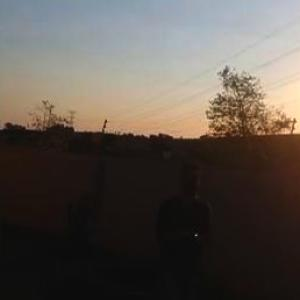follow: (142, 152, 210, 299)
